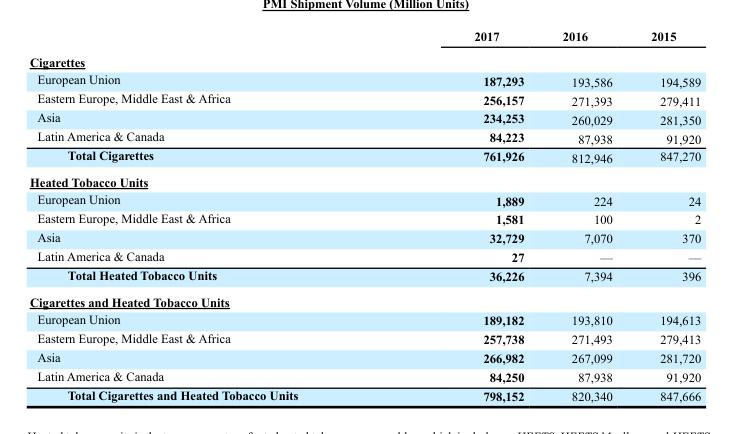table: (28, 29, 700, 402)
table column: (28, 29, 385, 402), (385, 29, 542, 402), (542, 29, 631, 402), (631, 29, 700, 402)
table column header: (28, 29, 700, 48)
table projected row header: (28, 48, 700, 70), (28, 288, 700, 310), (28, 169, 700, 190)
table row: (28, 146, 700, 169), (28, 265, 700, 288), (28, 48, 700, 70), (28, 288, 700, 310), (28, 169, 700, 190), (28, 29, 700, 48), (28, 70, 700, 89), (28, 89, 700, 108), (28, 108, 700, 127), (28, 127, 700, 146), (28, 190, 700, 209), (28, 209, 700, 228), (28, 228, 700, 247), (28, 310, 700, 329), (28, 329, 700, 348), (28, 348, 700, 367), (28, 247, 700, 265), (28, 367, 700, 385), (28, 385, 700, 402)
